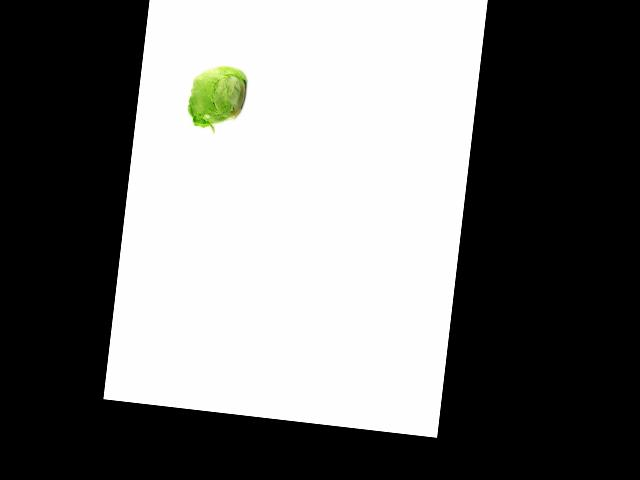lettuce: (183, 59, 251, 129)
